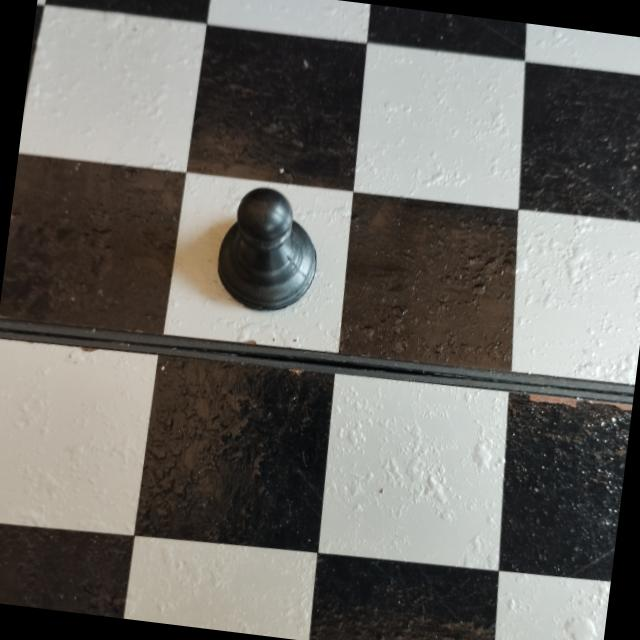Black Pawn: (207, 176, 331, 324)
